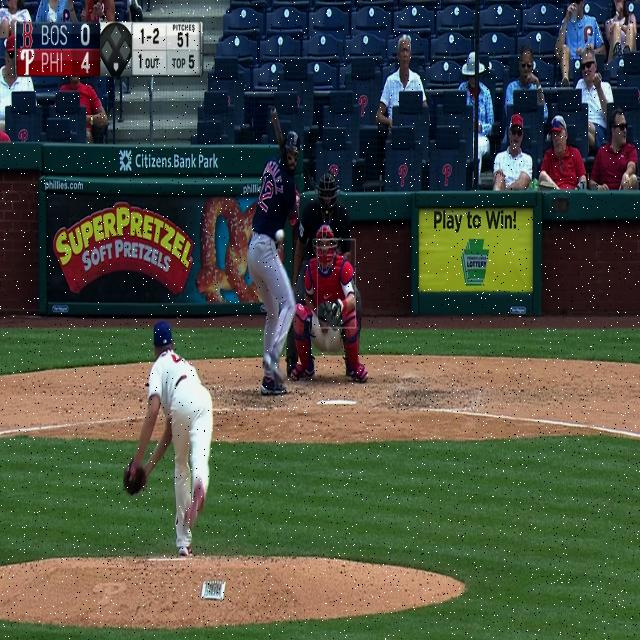baseball: (274, 228, 284, 242)
